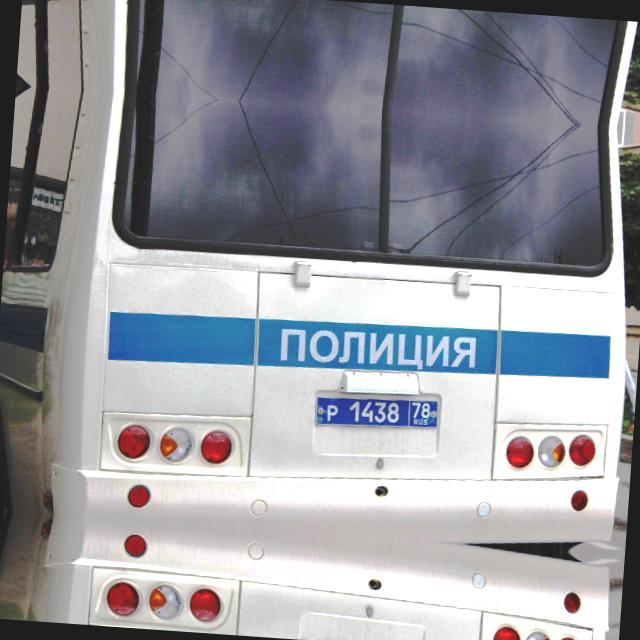police: (312, 390, 438, 434)
